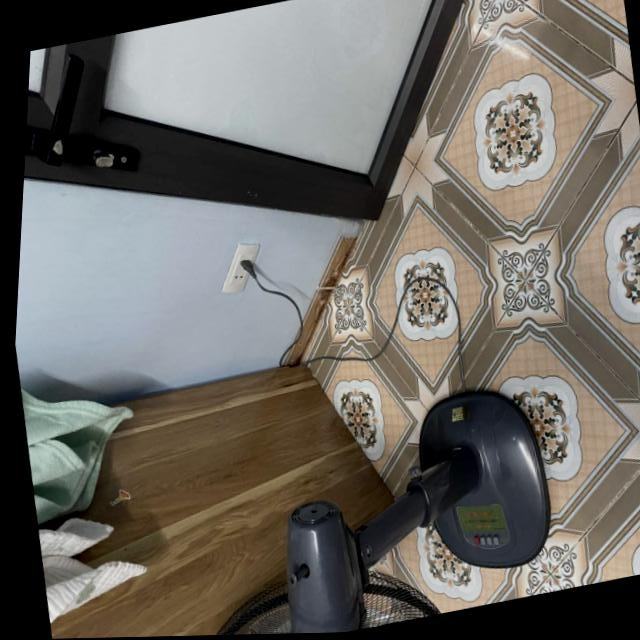outlet: (213, 240, 267, 298)
